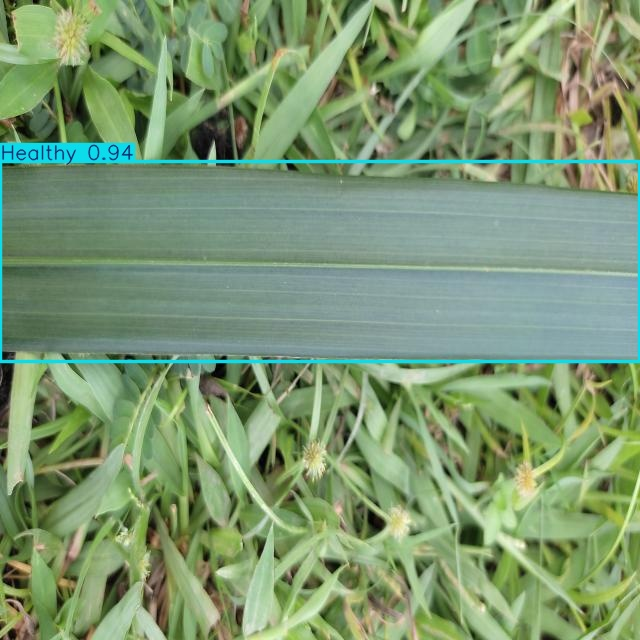Healthy: (0, 161, 640, 362)
